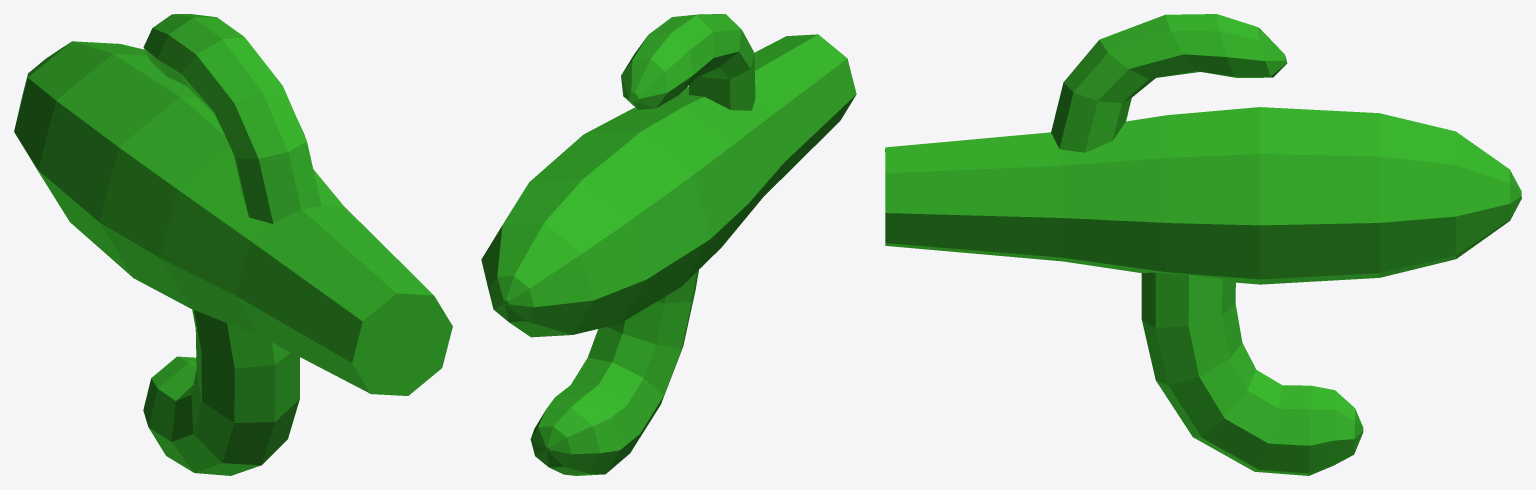
3 renders of one model, left to right at view 1: azimuth 30°, elevation 25°; view 2: azimuth 150°, elevation 25°; view 3: azimuth 270°, elevation 25°, orthographic. The views are drawn at different scales.
Visible parts, largest first — view 1: Cylinder; view 2: Cylinder; view 3: Cylinder.
Part boxes in pixels (x1,y1,x2,y2): Cylinder: (14,14,452,475); Cylinder: (481,14,856,475); Cylinder: (885,14,1521,475).
Size of the model in its own units: 203 by 526 by 695.
